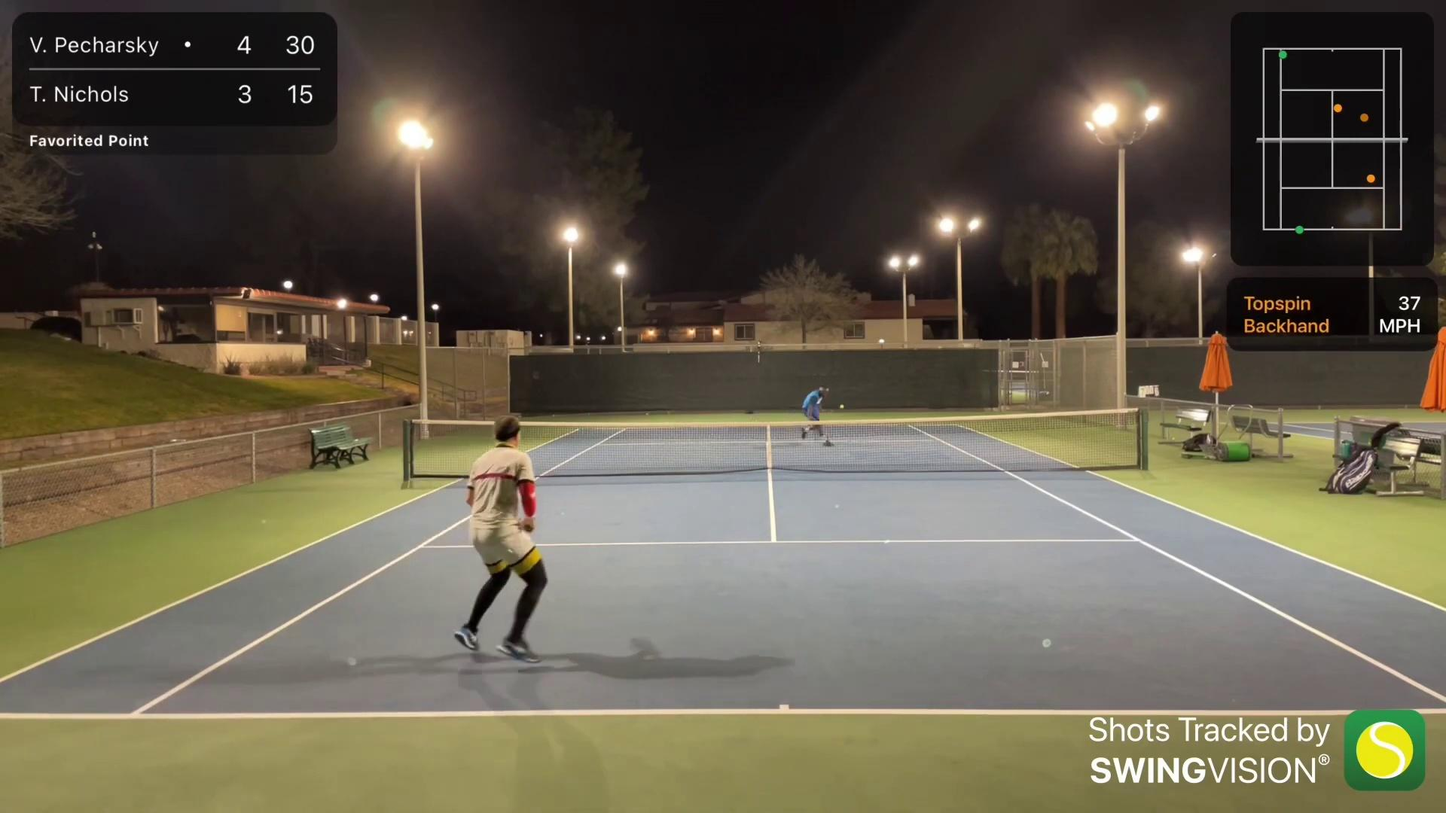ball: (838, 402, 848, 411)
